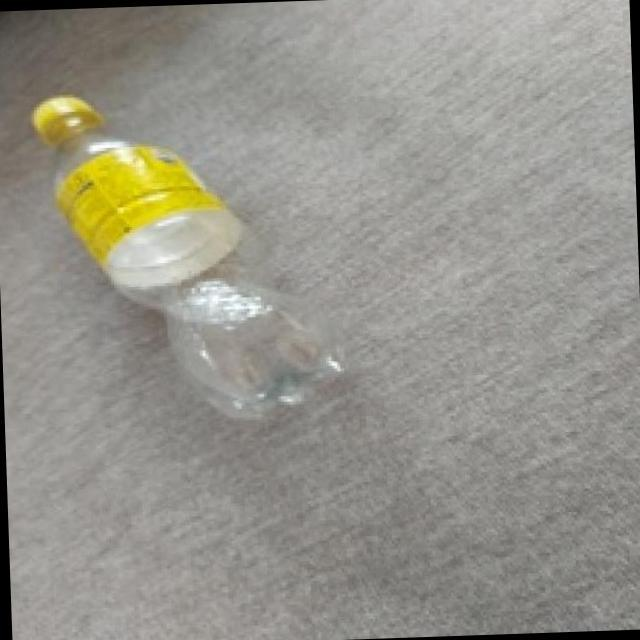good: (23, 88, 347, 424)
